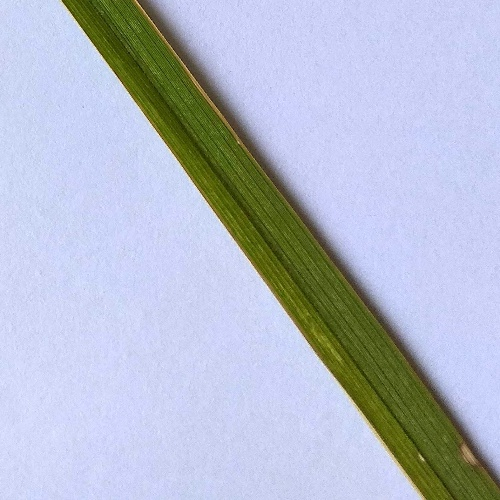Busuk Leher: (304, 323, 345, 363), (455, 437, 486, 470), (409, 448, 430, 466)
